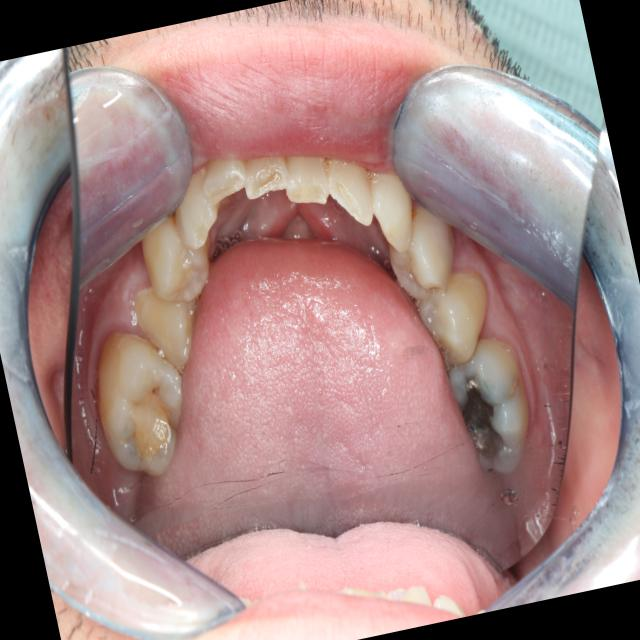tooth: (78, 309, 208, 493), (429, 319, 547, 489), (368, 173, 470, 308), (400, 256, 501, 372), (126, 198, 222, 312), (121, 266, 210, 382), (353, 150, 425, 264), (159, 160, 229, 253), (319, 140, 381, 234), (272, 138, 338, 218), (234, 140, 298, 214), (191, 144, 257, 214)
